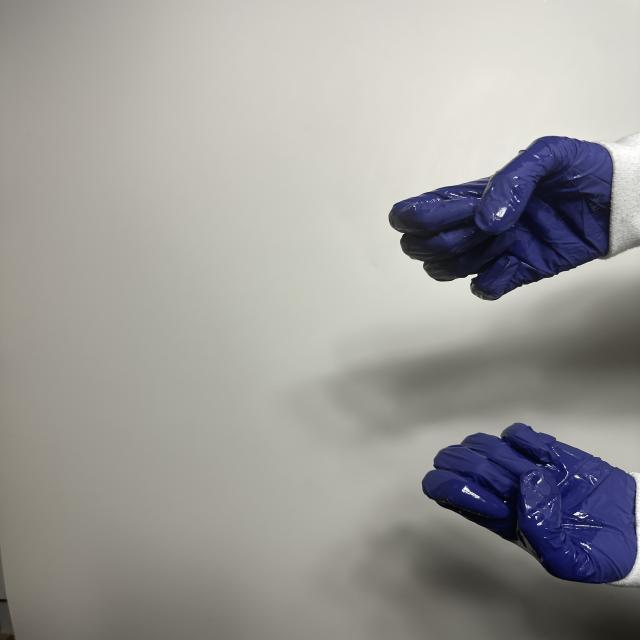gloves_contaminated: (390, 137, 614, 300), (423, 423, 637, 583)
